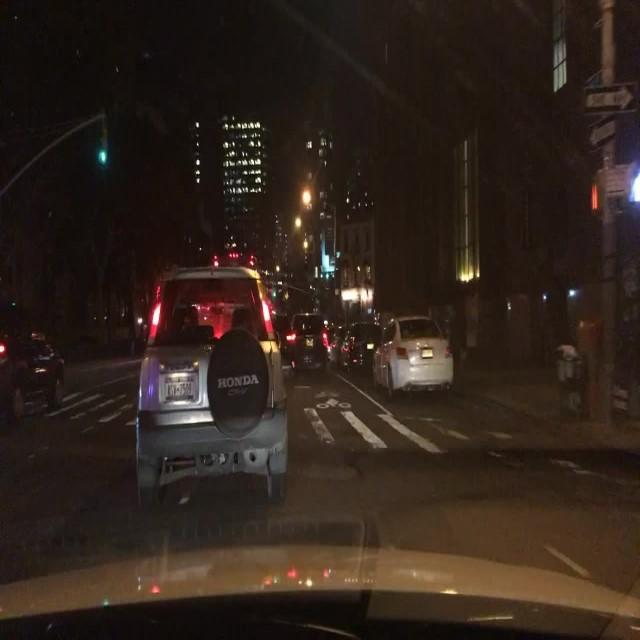normal: (132, 269, 285, 516), (375, 315, 457, 396), (277, 315, 328, 377)
